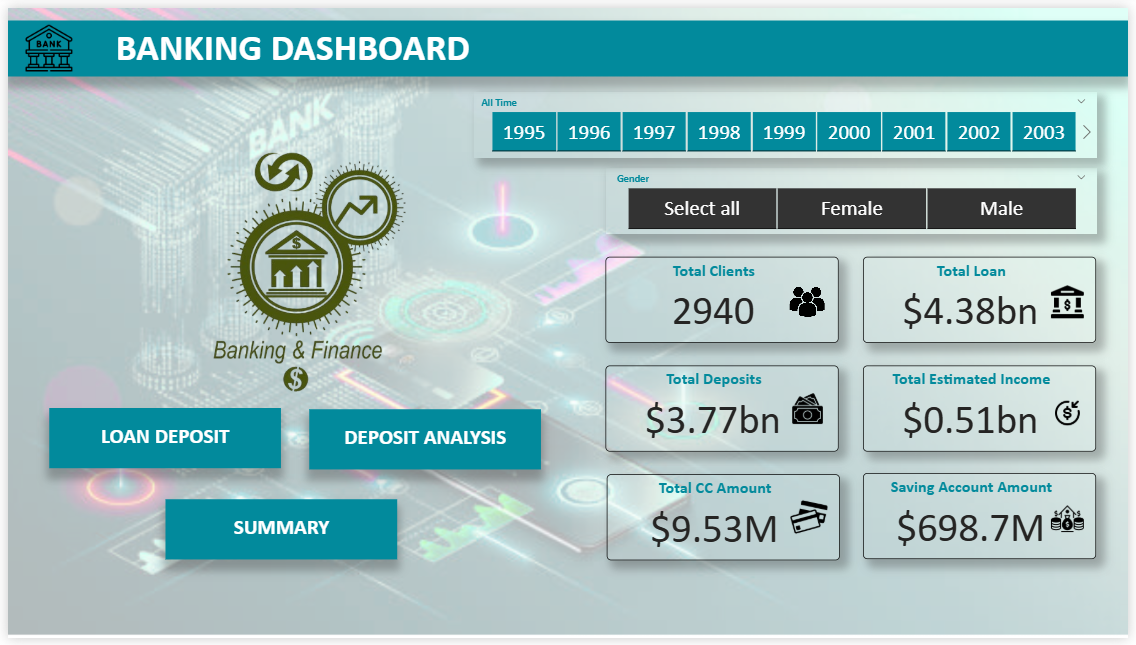

What the dashboard file says about the page in this screenshot:
{"tool":"powerbi","page":{"name":"Home","canvas":[1280,720],"ordinal":0},"visuals":[{"type":"image","box":[68.4,114.4,532,366.7],"z":0},{"type":"textbox","box":[0,13.8,1280,63.8],"z":1000},{"type":"image","box":[0,13.8,93.8,63.8],"z":2000},{"type":"card","title":"Total Clients","fields":{"Values":["DAX Measures.Total Clients"]},"box":[682.5,283.8,266.2,98.8],"z":2000,"group":"g1"},{"type":"textbox","box":[47.5,457.5,265,68.8],"z":3000},{"type":"actionButton","box":[47.5,457.5,265,68.8],"z":4000},{"type":"actionButton","box":[345,457.5,265,70],"z":5000},{"type":"textbox","box":[345,458.8,265,68.8],"z":6000},{"type":"textbox","box":[180,561.2,265,68.8],"z":7000},{"type":"actionButton","box":[180,561.2,265,70],"z":8000},{"type":"actionButton","box":[345,457.5,265,70],"z":9000},{"type":"image","box":[888.7,311.3,50,48.8],"z":10000,"group":"g1"},{"type":"card","title":"Total CC Amount","fields":{"Values":["DAX Measures.Total Credit Card Amount"]},"box":[683.8,532.5,266.2,98.8],"z":10000},{"type":"slicer","fields":{"Values":["Banking.Joined Bank.Variation.Date Hierarchy.Year"]},"box":[532.5,96.2,711.2,75],"z":11000},{"type":"card","title":"Saving Account Amount","fields":{"Values":["DAX Measures.Savings Account Amount"]},"box":[977.5,531.2,266.2,98.8],"z":11000,"group":"g5"},{"type":"slicer","fields":{"Values":["Gender.Gender"]},"box":[682.5,182.5,561.2,76.2],"z":12000},{"type":"card","title":"Total Loan","fields":{"Values":["DAX Measures.Total Loan"]},"box":[977.5,283.8,266.2,98.8],"z":12000,"group":"g3"},{"type":"image","box":[888.8,556.2,53.8,52.5],"z":13000},{"type":"group","id":"g1","title":"Group 1","box":[682.5,283.8,266.2,98.8],"z":14000},{"type":"card","title":"Total Deposits","fields":{"Values":["DAX Measures.Total Deposits"]},"box":[682.5,408.8,266.2,98.8],"z":14000,"group":"g2"},{"type":"group","id":"g2","title":"Group 2","box":[682.5,408.8,266.2,98.8],"z":15000},{"type":"group","id":"g3","title":"Group 3","box":[977.5,283.8,266.2,98.8],"z":16000},{"type":"group","id":"g4","title":"Group 4","box":[977.5,408.8,266.2,98.8],"z":17000},{"type":"card","title":"Total Estimated Income","fields":{"Values":["DAX Measures.Total Fees"]},"box":[977.5,408.8,266.2,98.8],"z":17000,"group":"g4"},{"type":"image","box":[1187.5,311.3,47.5,48.8],"z":18000,"group":"g3"},{"type":"group","id":"g5","title":"Group 5","box":[977.5,531.2,266.2,98.8],"z":18000},{"type":"image","box":[888.7,433.8,50,47.5],"z":19000,"group":"g2"},{"type":"image","box":[1187.5,558.7,47.5,50],"z":21000,"group":"g5"},{"type":"image","box":[1187.5,432.6,47.5,60],"z":21001,"group":"g4"}]}

Visuals, with their boxes in screenshot pixels (x1, y1, x2, y2), scaled from the page's 1280x720 canvas onto the 1136x645 screenshot:
image: BBox(61, 102, 533, 431)
textbox: BBox(0, 12, 1135, 70)
image: BBox(0, 12, 83, 70)
"Total Clients" card: BBox(606, 254, 842, 343)
textbox: BBox(42, 410, 277, 471)
actionButton: BBox(42, 410, 277, 471)
actionButton: BBox(306, 410, 541, 473)
textbox: BBox(306, 411, 541, 473)
textbox: BBox(160, 503, 395, 564)
actionButton: BBox(160, 503, 395, 565)
actionButton: BBox(306, 410, 541, 473)
image: BBox(789, 279, 833, 323)
"Total CC Amount" card: BBox(607, 477, 843, 566)
slicer - Banking.Joined Bank.Variation.Date Hierarchy.Year: BBox(473, 86, 1104, 153)
"Saving Account Amount" card: BBox(868, 476, 1104, 564)
slicer - Gender.Gender: BBox(606, 163, 1104, 232)
"Total Loan" card: BBox(868, 254, 1104, 343)
image: BBox(789, 498, 837, 545)
"Group 1" group: BBox(606, 254, 842, 343)
"Total Deposits" card: BBox(606, 366, 842, 455)
"Group 2" group: BBox(606, 366, 842, 455)
"Group 3" group: BBox(868, 254, 1104, 343)
"Group 4" group: BBox(868, 366, 1104, 455)
"Total Estimated Income" card: BBox(868, 366, 1104, 455)
image: BBox(1054, 279, 1096, 323)
"Group 5" group: BBox(868, 476, 1104, 564)
image: BBox(789, 389, 833, 431)
image: BBox(1054, 501, 1096, 545)
image: BBox(1054, 388, 1096, 441)
